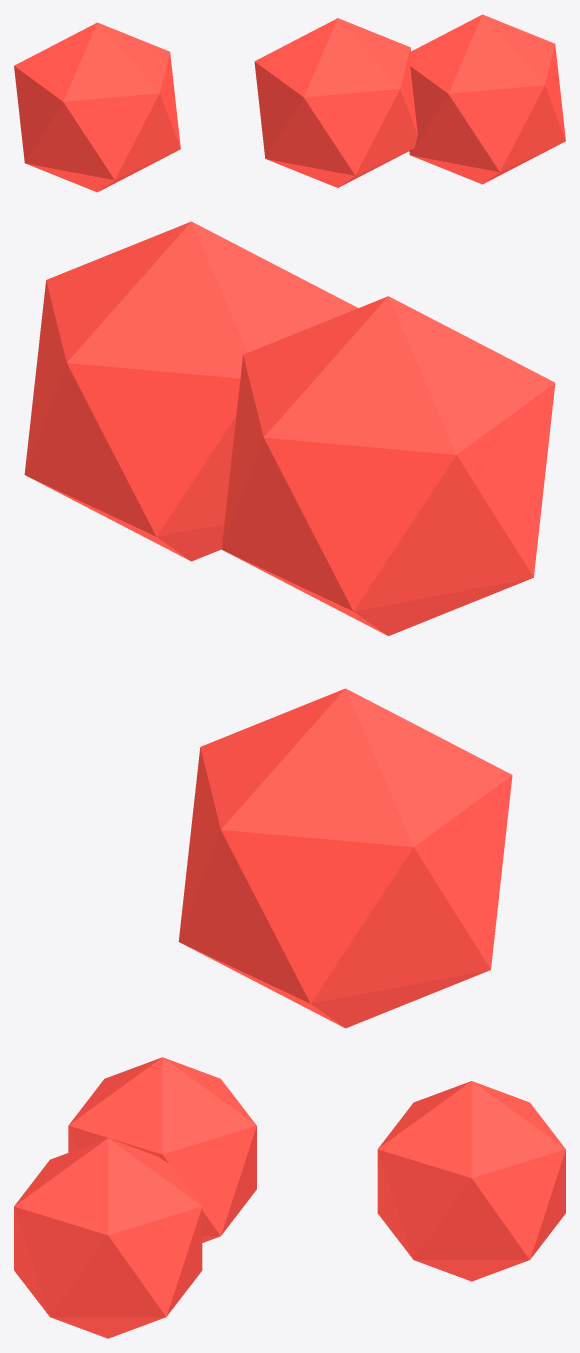
The model's file is flower_red.glb.
3 renders of one model, top to bottom at view 1: azimuth 30°, elevation 25°; view 2: azimuth 150°, elevation 25°; view 3: azimuth 270°, elevation 25°, orthographic. The views are drawn at different scales.
Visible parts, largest first — view 1: Icosphere.011, Icosphere.010, Icosphere.009; view 2: Icosphere.010, Icosphere.011, Icosphere.009; view 3: Icosphere.011, Icosphere.009, Icosphere.010.
Part boxes in pixels (x1,y1,x2,y2): Icosphere.011: (14,22,180,192); Icosphere.010: (254,18,417,187); Icosphere.009: (409,14,565,184); Icosphere.010: (221,296,555,635); Icosphere.011: (178,688,512,1028); Icosphere.009: (24,221,357,561); Icosphere.011: (377,1081,565,1281); Icosphere.009: (14,1138,202,1338); Icosphere.010: (68,1057,256,1242).
Bounding box in the file's own units: 0.4169 × 0.2578 × 0.4486.
